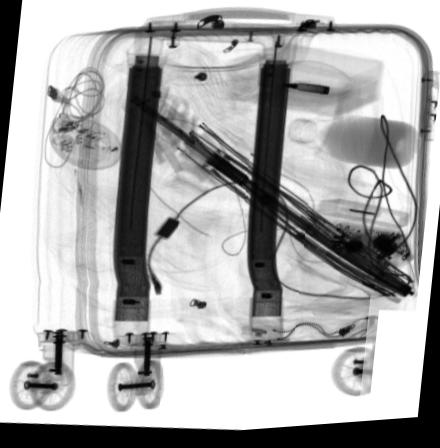Bullet: (280, 87, 329, 100)
